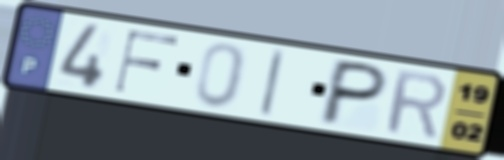0: (192, 41, 250, 111)
4: (56, 21, 108, 91)
F: (110, 28, 183, 95)
I: (257, 47, 289, 120)
P: (314, 56, 394, 128)
R: (383, 67, 449, 142)
